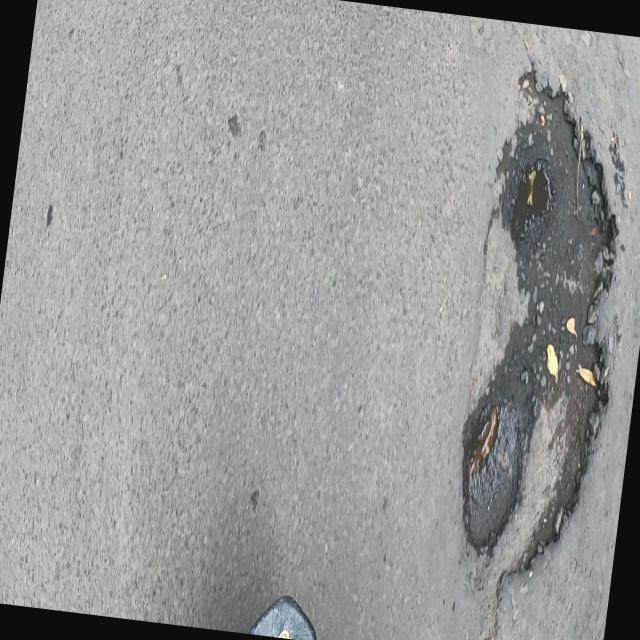Lubang: (462, 72, 616, 561)
